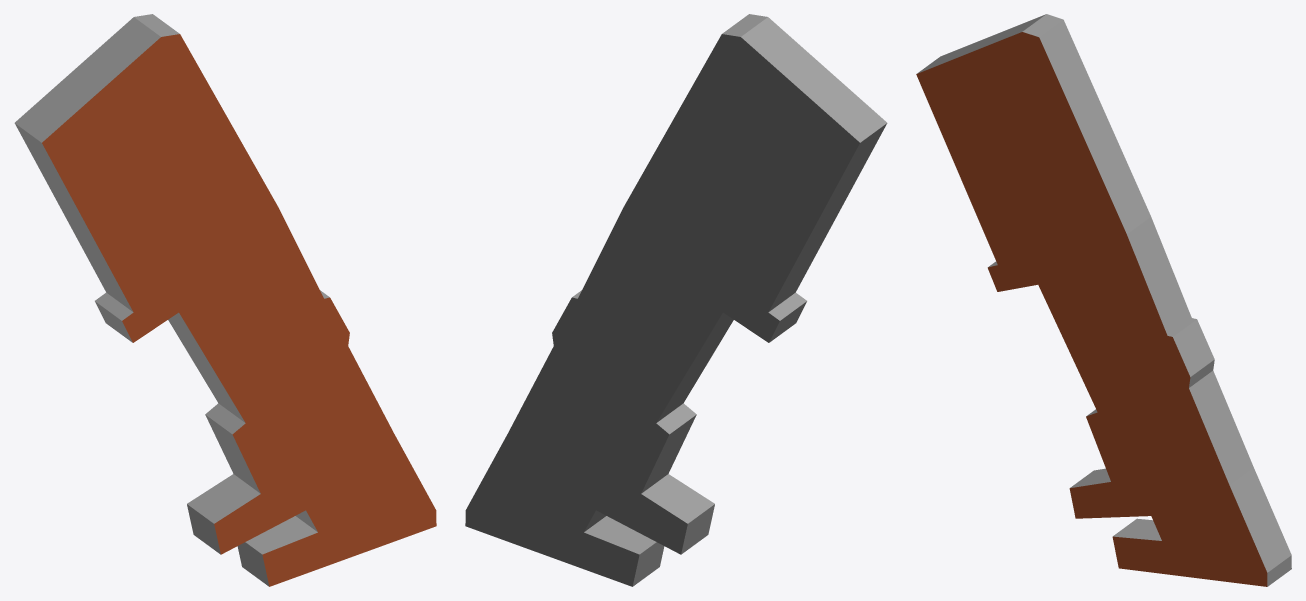
Rendered from construction_6973_assumed_A_Casa_h6m.obj.
3 renders of one model, left to right at view 1: azimuth 30°, elevation 25°; view 2: azimuth 150°, elevation 25°; view 3: azimuth 330°, elevation 25°, orthographic. The views are drawn at different scales.
Parts seen in each view (by area): view 1: construction_6973_assumed_A_Casa; view 2: construction_6973_assumed_A_Casa; view 3: construction_6973_assumed_A_Casa.
Boxes of the visible parts, box(x1,y1,x2,y2) form: construction_6973_assumed_A_Casa: box(14, 14, 436, 586); construction_6973_assumed_A_Casa: box(465, 14, 887, 586); construction_6973_assumed_A_Casa: box(916, 14, 1291, 586).
Size of the model in its own units: 50 by 69.78 by 6.
